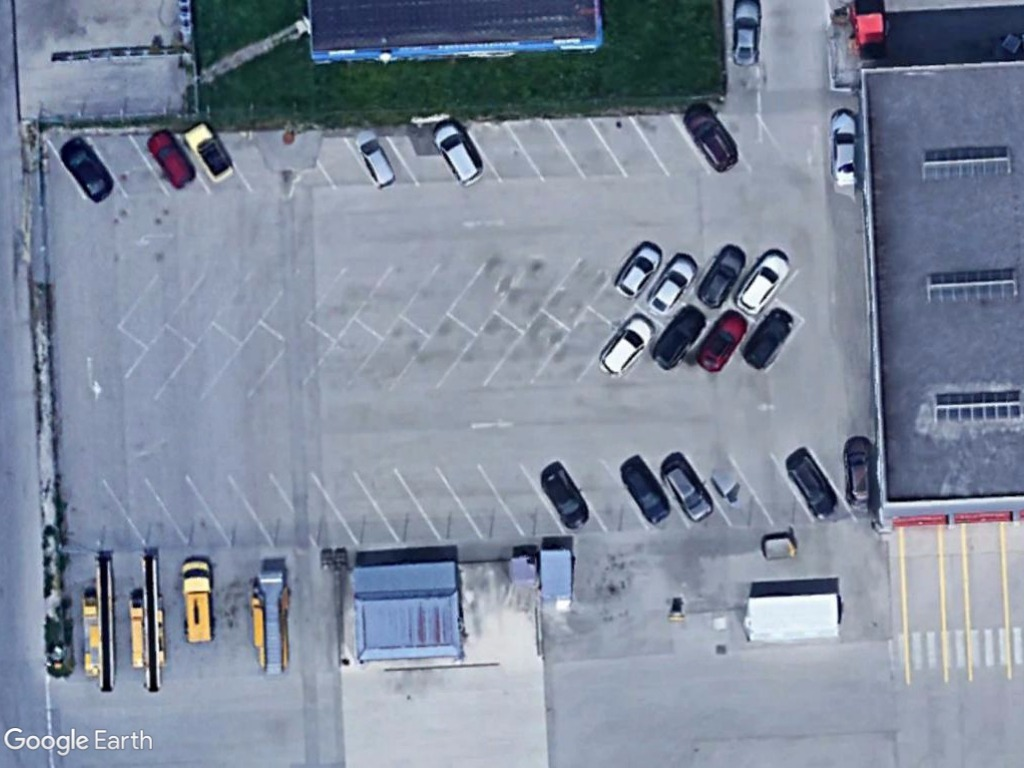car: (676, 100, 744, 177), (688, 237, 752, 315), (778, 449, 844, 524), (54, 134, 120, 207), (731, 246, 797, 318), (595, 305, 655, 381), (648, 299, 708, 373), (689, 303, 750, 375), (738, 302, 798, 373), (140, 126, 200, 196), (616, 459, 675, 530), (431, 117, 489, 189), (656, 457, 717, 525), (639, 252, 701, 318), (348, 123, 403, 196), (536, 464, 593, 533), (609, 237, 666, 303), (183, 119, 237, 188), (836, 428, 877, 511), (823, 104, 861, 192), (728, 0, 765, 68)
stairtruck: (248, 557, 296, 677)
van: (173, 553, 220, 651)
